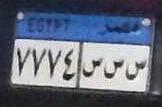4: (61, 50, 77, 83)
7: (47, 48, 62, 79), (15, 46, 30, 77), (32, 47, 45, 76)
seen: (124, 58, 149, 83), (103, 57, 125, 81), (81, 55, 103, 79)
